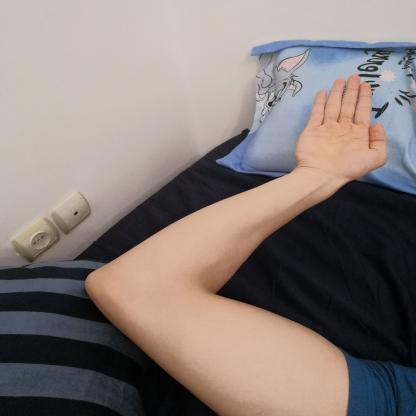SEEN: (288, 67, 395, 184)
